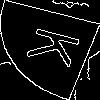K: (25, 25, 93, 72)
